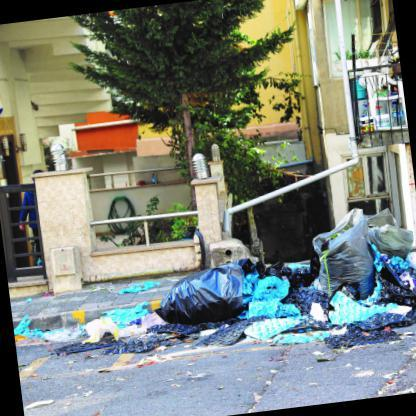Garbage: (153, 205, 415, 350), (256, 293, 354, 371), (311, 210, 374, 318), (50, 321, 162, 377), (162, 259, 254, 326), (364, 204, 412, 270), (84, 316, 122, 350), (126, 278, 160, 300)
